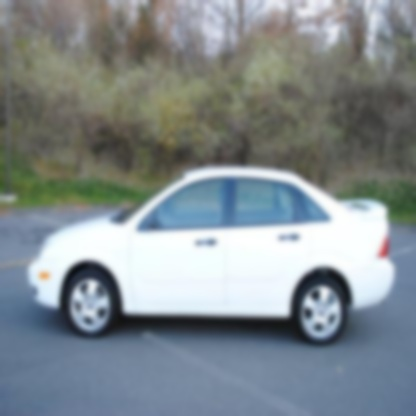Vehicle: (27, 168, 395, 345)
